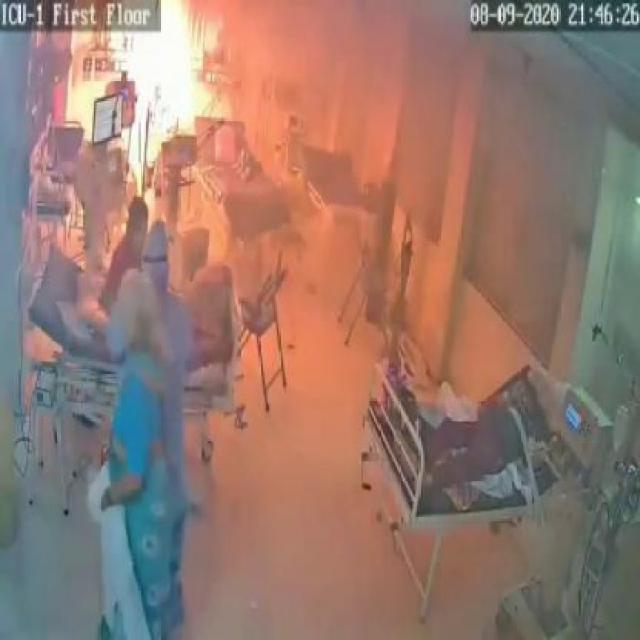fire: (108, 2, 215, 162)
smoke: (275, 8, 640, 270)
